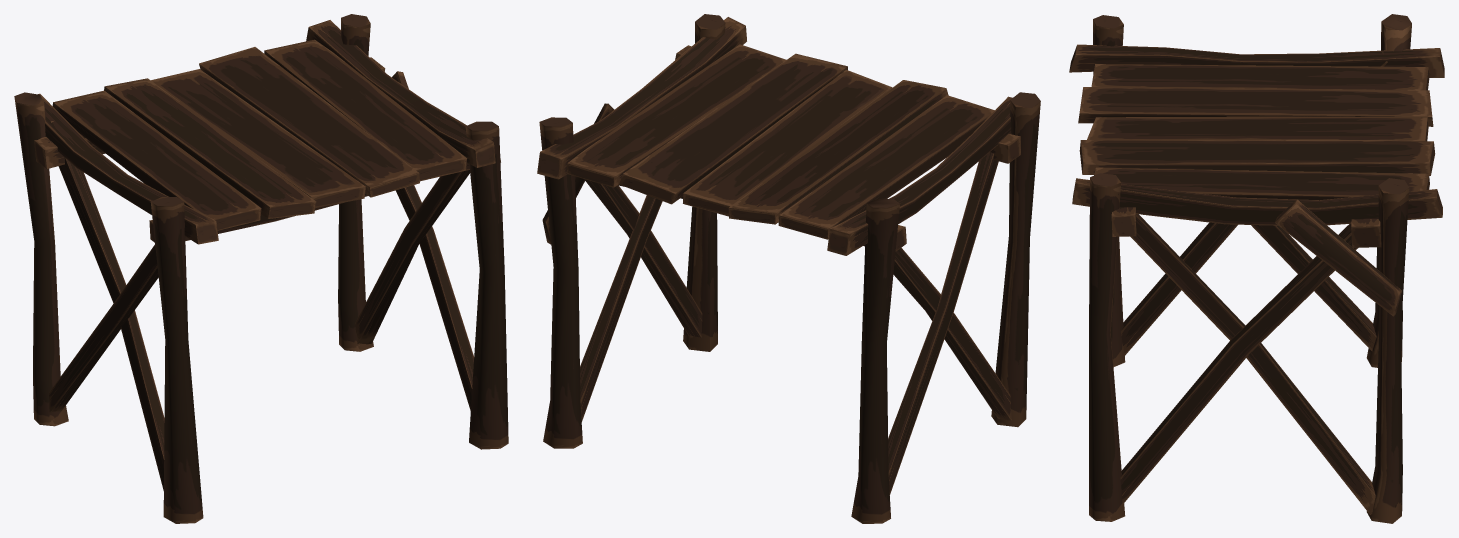
Rendered from SM_PROP_woodbridge_dungeon_02.fbx.
3 views of the same model, side by side, from view 1: azimuth 30°, elevation 25°; view 2: azimuth 150°, elevation 25°; view 3: azimuth 270°, elevation 25° (orthographic). The views are drawn at different scales.
Parts seen in each view (by area): view 1: SM_PROP_woodbridge_dungeon_02; view 2: SM_PROP_woodbridge_dungeon_02; view 3: SM_PROP_woodbridge_dungeon_02.
Boxes of the visible parts, box(x1,y1,x2,y2) form: SM_PROP_woodbridge_dungeon_02: box(14, 14, 508, 523); SM_PROP_woodbridge_dungeon_02: box(537, 14, 1040, 523); SM_PROP_woodbridge_dungeon_02: box(1069, 14, 1444, 523).
Size of what is drawn, in the model's own units: 406 by 353 by 362.
